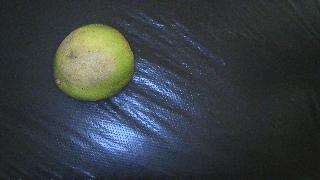DESECHO: (54, 24, 134, 101)
